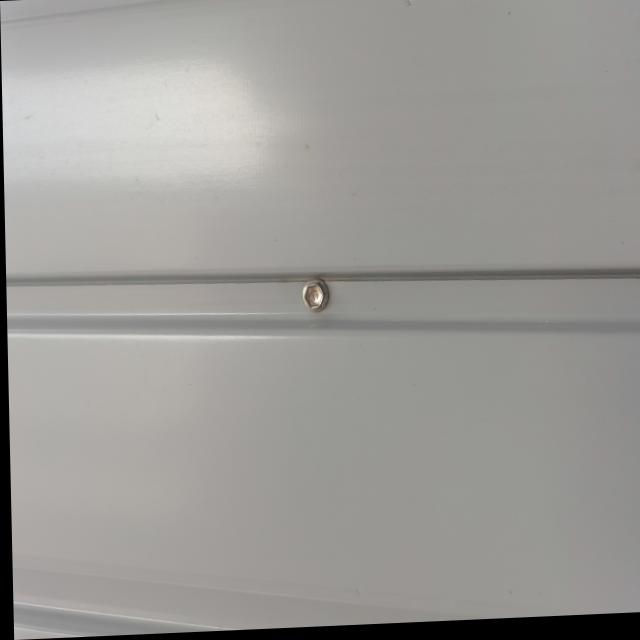Regular bolt: (303, 284, 326, 313)
